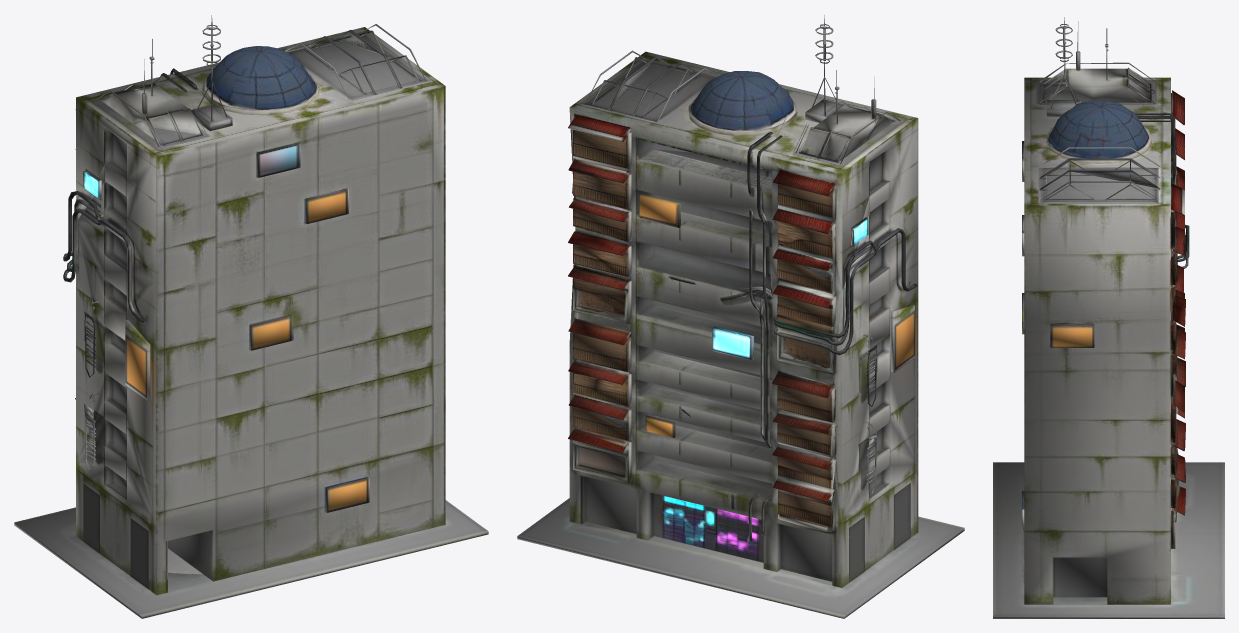
File: city_hdb.glb
The picture shows the model from 3 angles, left to right: view 1: azimuth 30°, elevation 25°; view 2: azimuth 150°, elevation 25°; view 3: azimuth 270°, elevation 25°; orthographic projection. The views are drawn at different scales.
Parts seen in each view (by area): view 1: Body; view 2: Body, Glow; view 3: Body.
Boxes of the visible parts, x1,y1,x2,y2 form: Body: (14, 15, 488, 618); Body: (517, 15, 964, 618); Glow: (653, 143, 869, 553); Body: (993, 17, 1224, 618).
Size of the model in its own units: 26.38 by 40 by 16.83.
2 materials, 2 textured.
